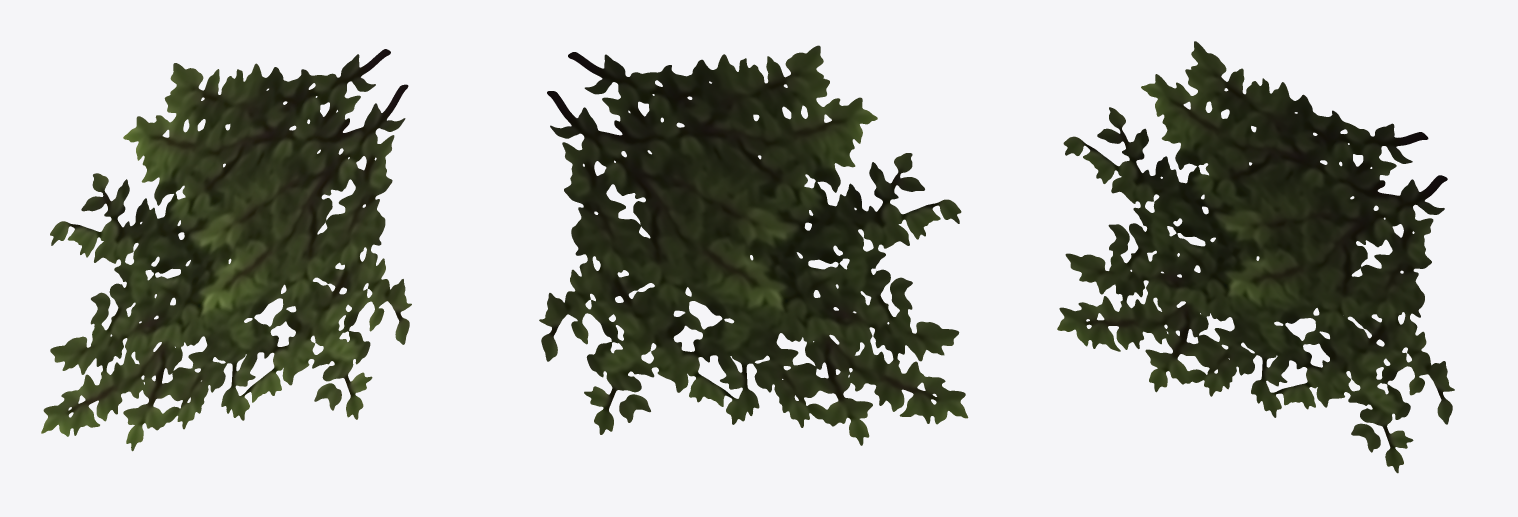
File: Tree Branch.FBX
The picture shows the model from 3 angles, left to right: view 1: azimuth 30°, elevation 25°; view 2: azimuth 150°, elevation 25°; view 3: azimuth 330°, elevation 25°; orthographic projection. The views are drawn at different scales.
Parts seen in each view (by area): view 1: Tree Branch; view 2: Tree Branch; view 3: Tree Branch.
Boxes of the visible parts, x1,y1,x2,y2 form: Tree Branch: [41, 49, 411, 451]; Tree Branch: [539, 45, 968, 445]; Tree Branch: [1057, 41, 1454, 473].
Size of the model in its own units: 250 by 26.23 by 235.
